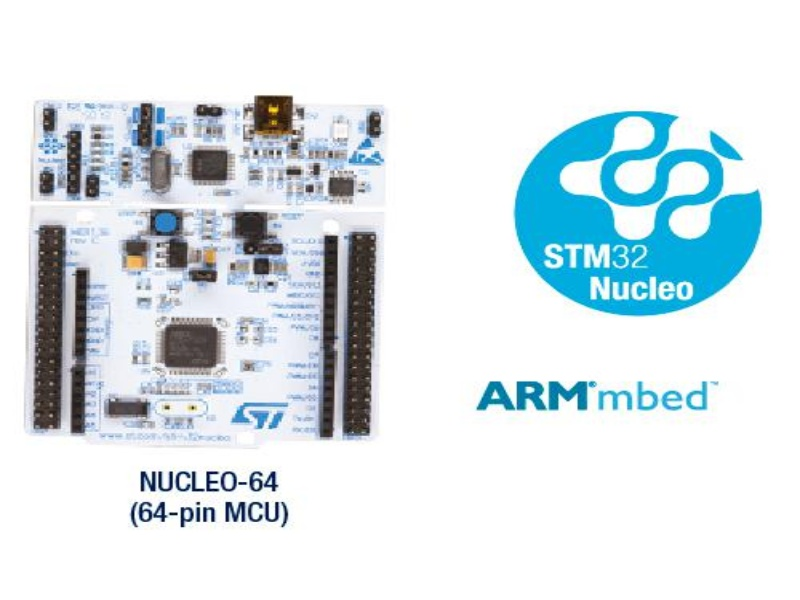stmnucleo: (21, 98, 386, 452)
